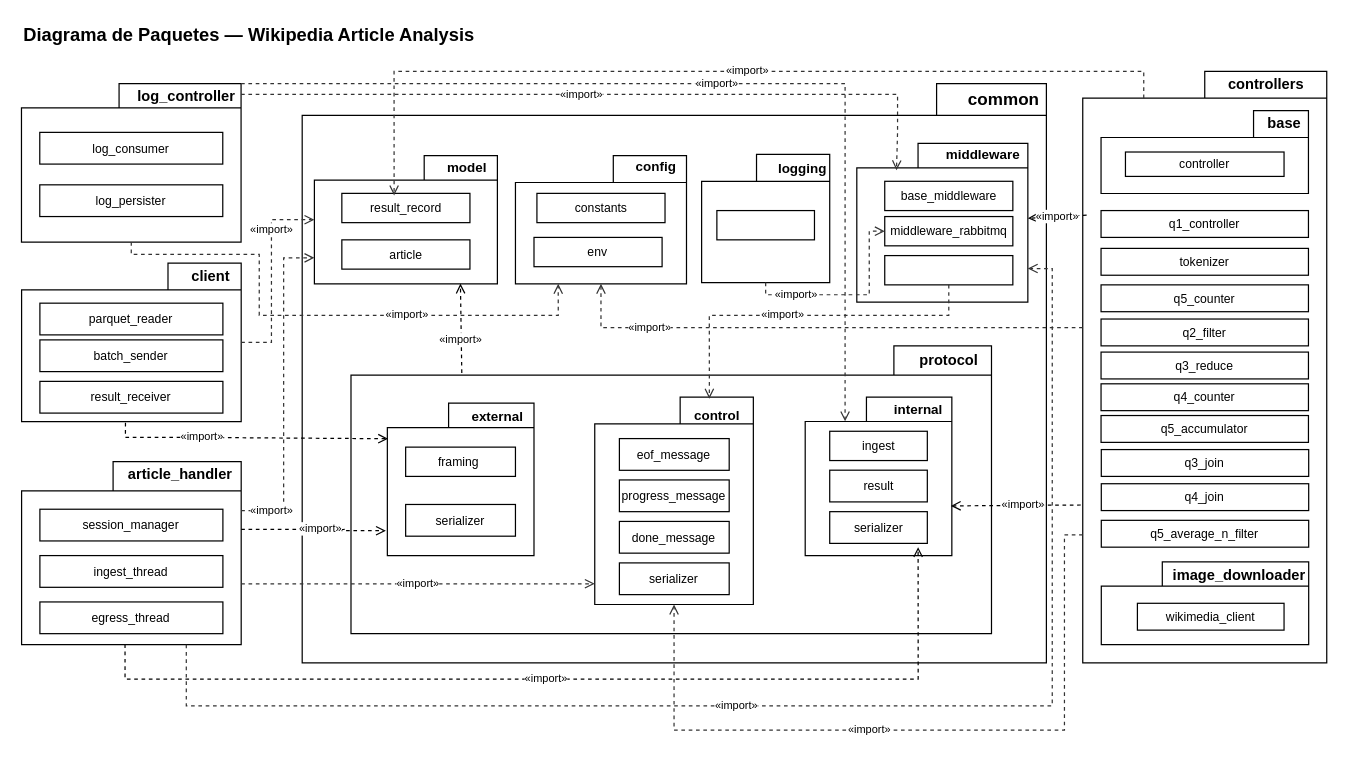
This 1366x763 diagram has some shape labels left out. Here are the shapes that lost their labels. From the top down, the centre of each, then its label:
(x=765, y=224): logger
(x=948, y=269): group
